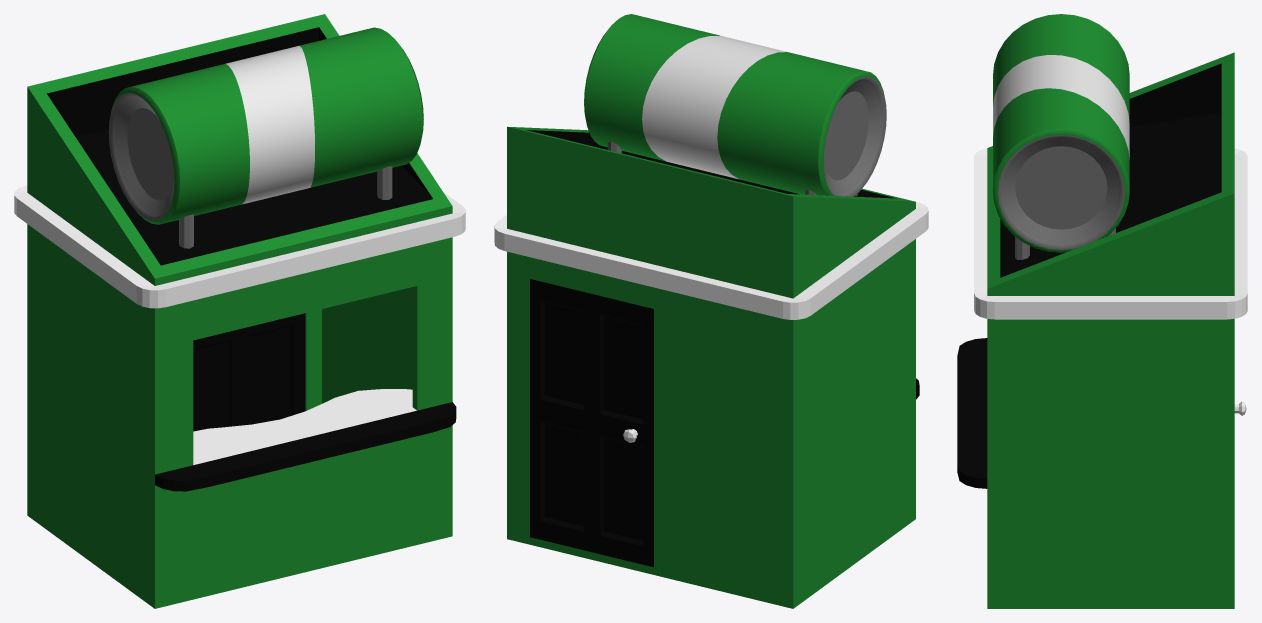
The model's file is new_stand_bev.fbx.
3 renders of one model, left to right at view 1: azimuth 30°, elevation 25°; view 2: azimuth 150°, elevation 25°; view 3: azimuth 270°, elevation 25°, orthographic. The views are drawn at different scales.
Visible parts, largest first — view 1: stand_base.001, gazoz, kapı.001; view 2: stand_base.001, gazoz, kapı.001; view 3: stand_base.001, gazoz.
Boxes of the visible parts, x1,y1,x2,y2 form: stand_base.001: (14,14,465,608); gazoz: (108,27,423,224); kapı.001: (193,313,305,431); stand_base.001: (494,126,928,608); gazoz: (584,14,886,196); kapı.001: (530,279,653,567); stand_base.001: (957,52,1247,608); gazoz: (993,14,1129,252).
Bounding box in the file's own units: 242 × 342 × 193.
